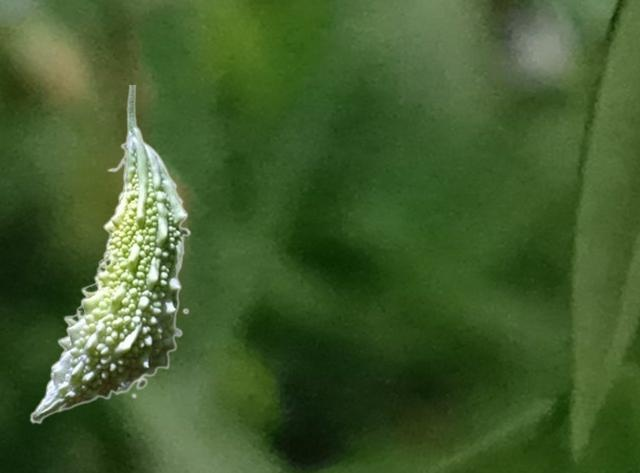ampalaya: (29, 85, 190, 423)
